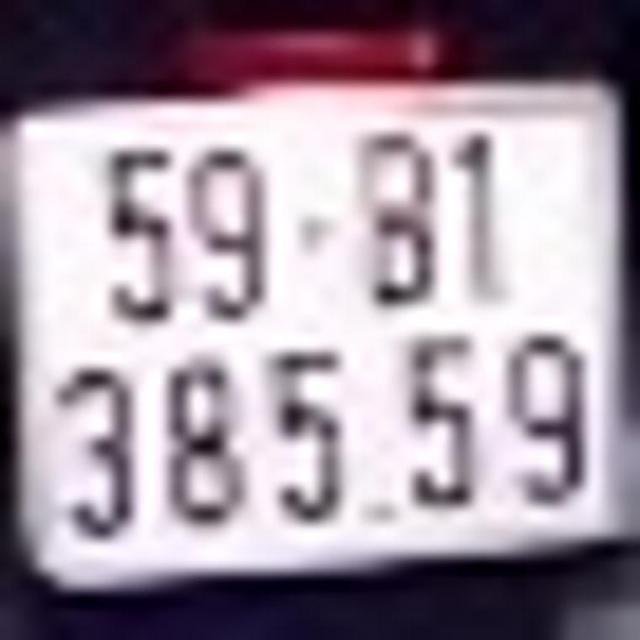1: (451, 122, 506, 301)
3: (50, 352, 138, 547)
5: (402, 324, 480, 511), (102, 138, 176, 327), (266, 343, 345, 516)
8: (164, 340, 245, 526)
9: (503, 316, 588, 508), (188, 137, 272, 329)
B: (357, 128, 435, 306)
